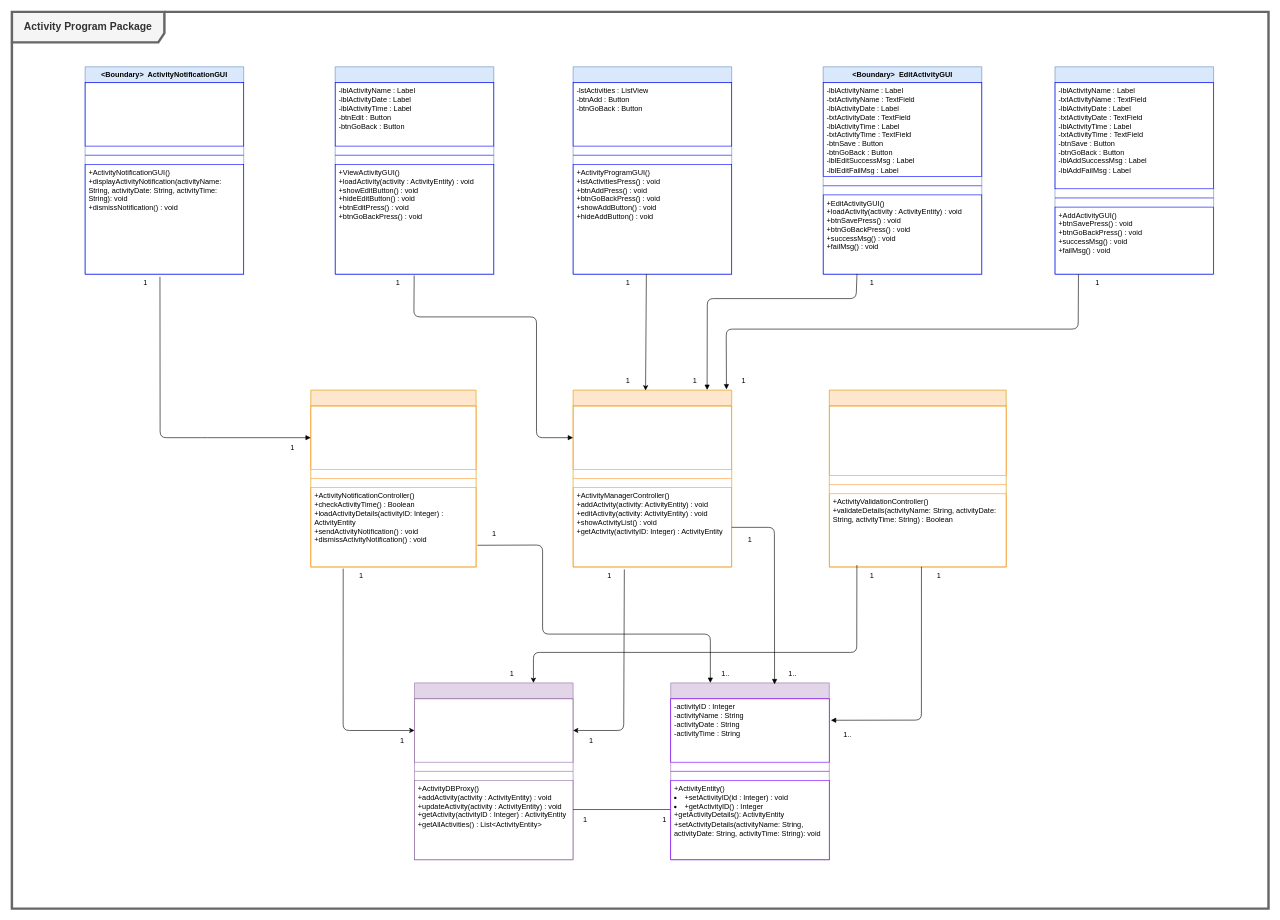
This 1280x920 diagram has some shape labels left out. The box of each missing label's shape, as (x1, y1, x2, y2) in pixels:
-lblActivityName : Label -lblActivityDate : Label -lblActivityTime : Label: (84, 82, 244, 146)
<Boundary> ActivityDBProxy: (414, 682, 573, 860)
<Boundary> ActivityProgramGUI: (572, 66, 732, 274)
<Boundary> AddActivityGUI: (1054, 66, 1214, 274)
<Boundary> ViewActivityGUI: (335, 66, 494, 274)
<Controller> ActivityManagerController: (572, 389, 732, 567)
<Controller> ActivityNotificationController: (310, 389, 476, 567)
<Controller> ActivityValidationController: (829, 389, 1006, 567)
<Entity> ActivityEntity: (670, 682, 829, 860)
